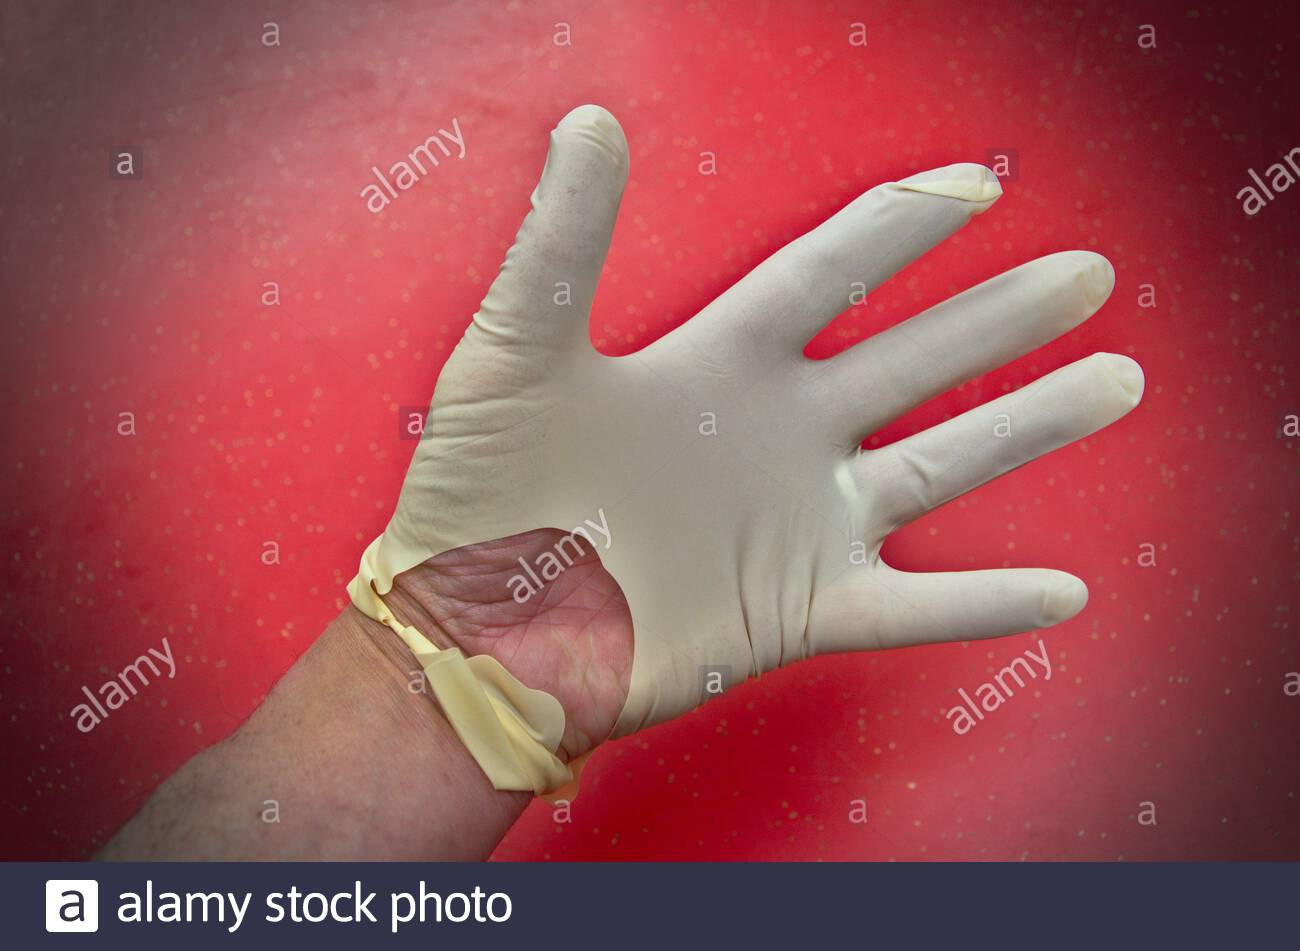defected: (381, 62, 1143, 783)
